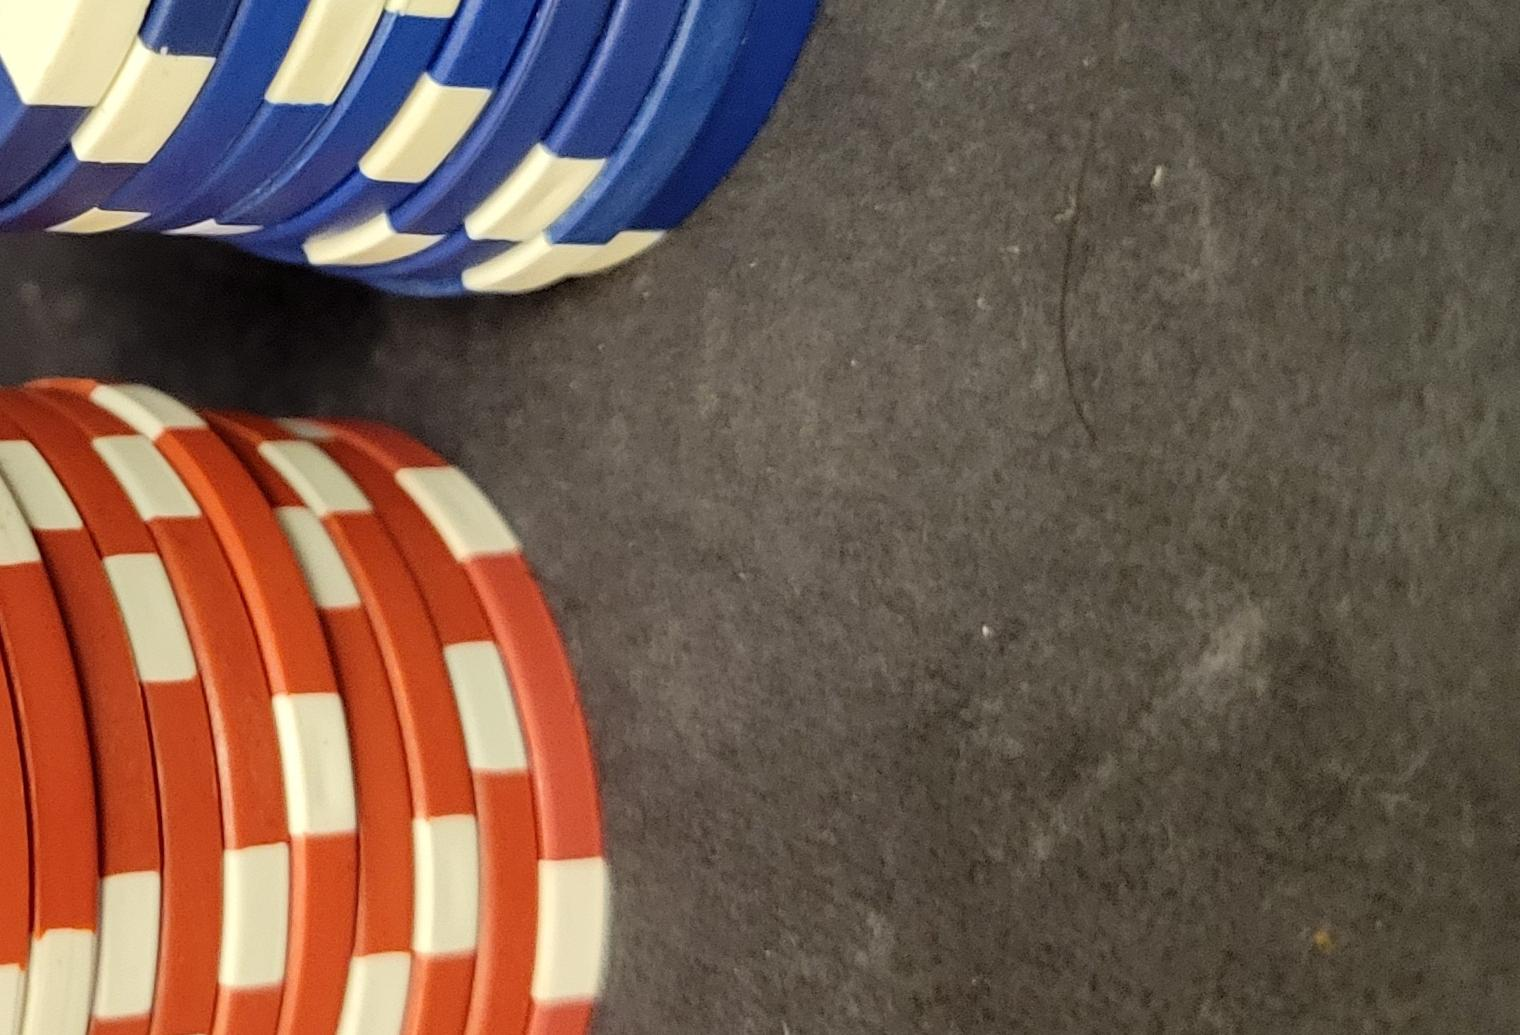Chip: (1, 400, 640, 1035)
